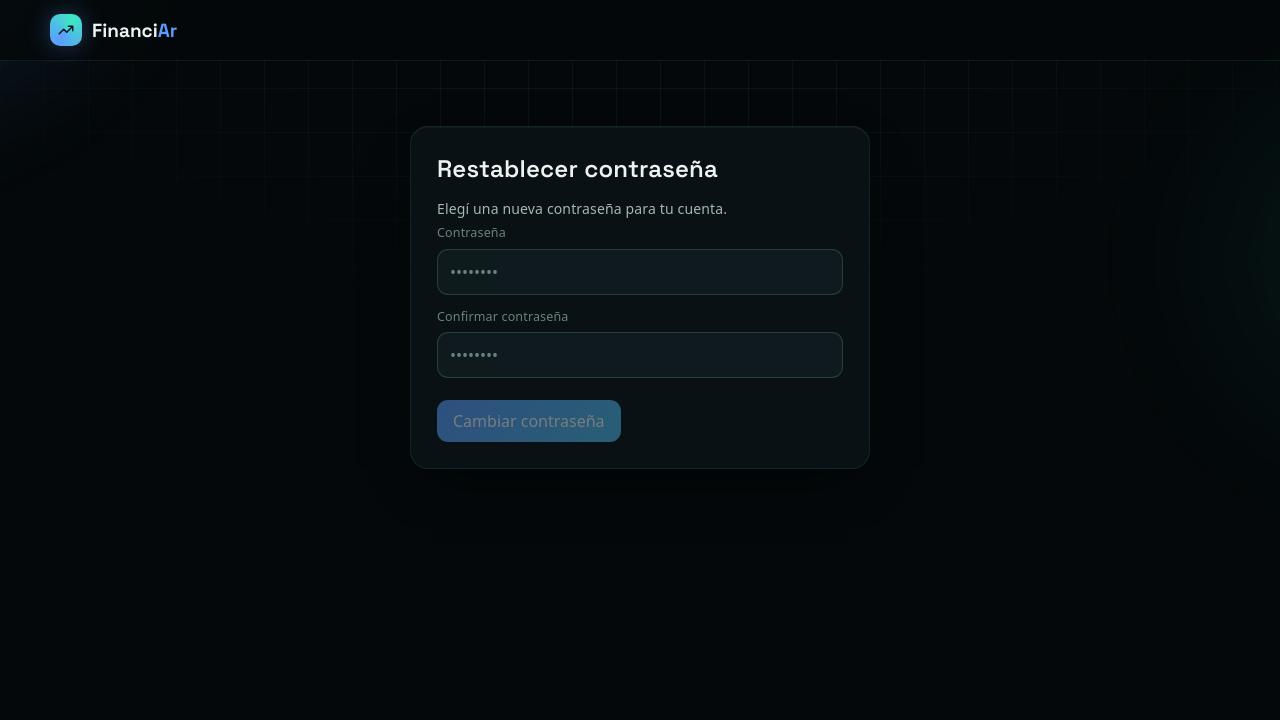
Scenario: restore page translates weak password errors
The width and height of the screenshot is (1280, 720).
In the 1st password field with placeholder "••••••••": (640, 272) 437,248 -> 843,294, type "NoDigits!!"
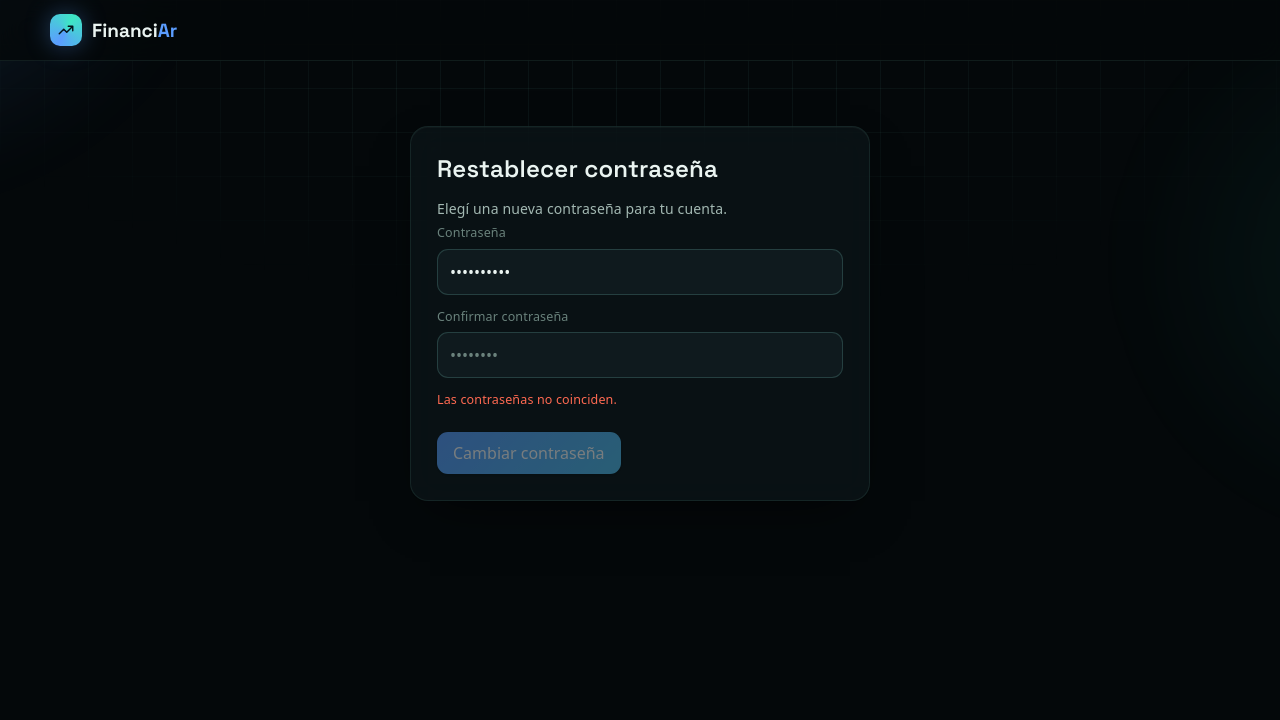
In the password field with placeholder "••••••••": (640, 355) 437,332 -> 843,378, type "NoDigits!!"
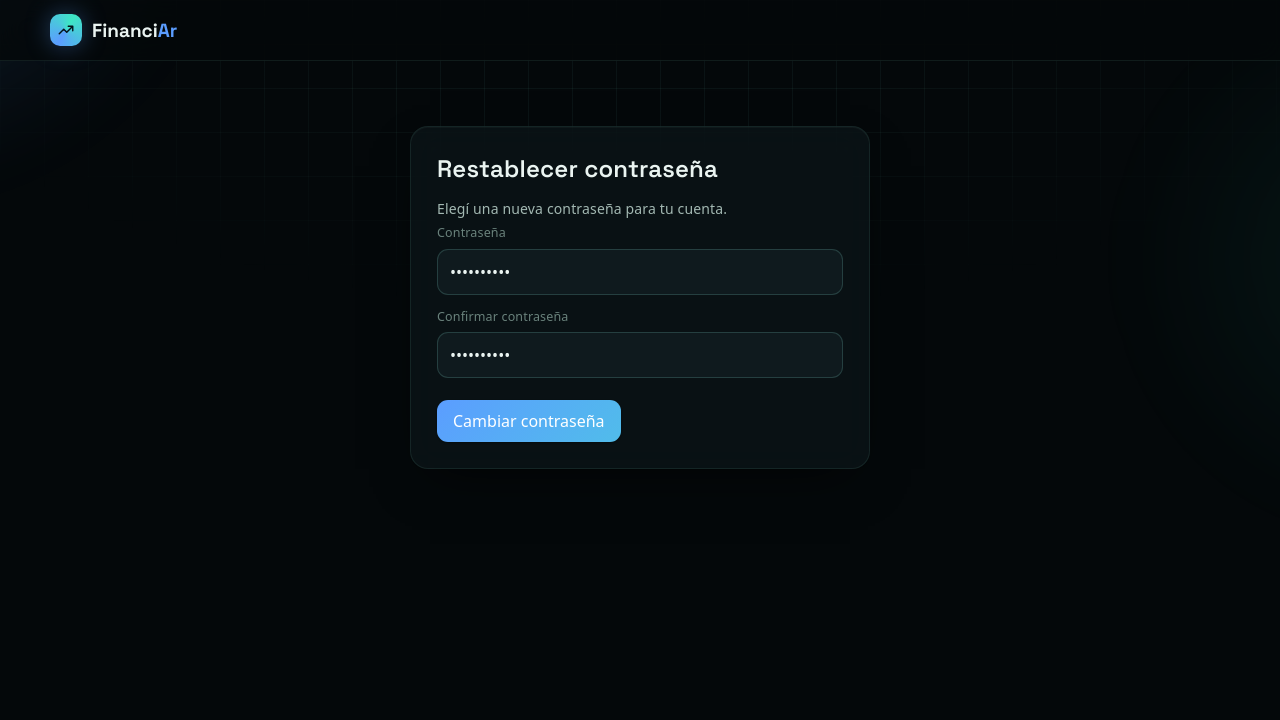
Click the button "Cambiar contraseña": (529, 421) 437,400 -> 621,442
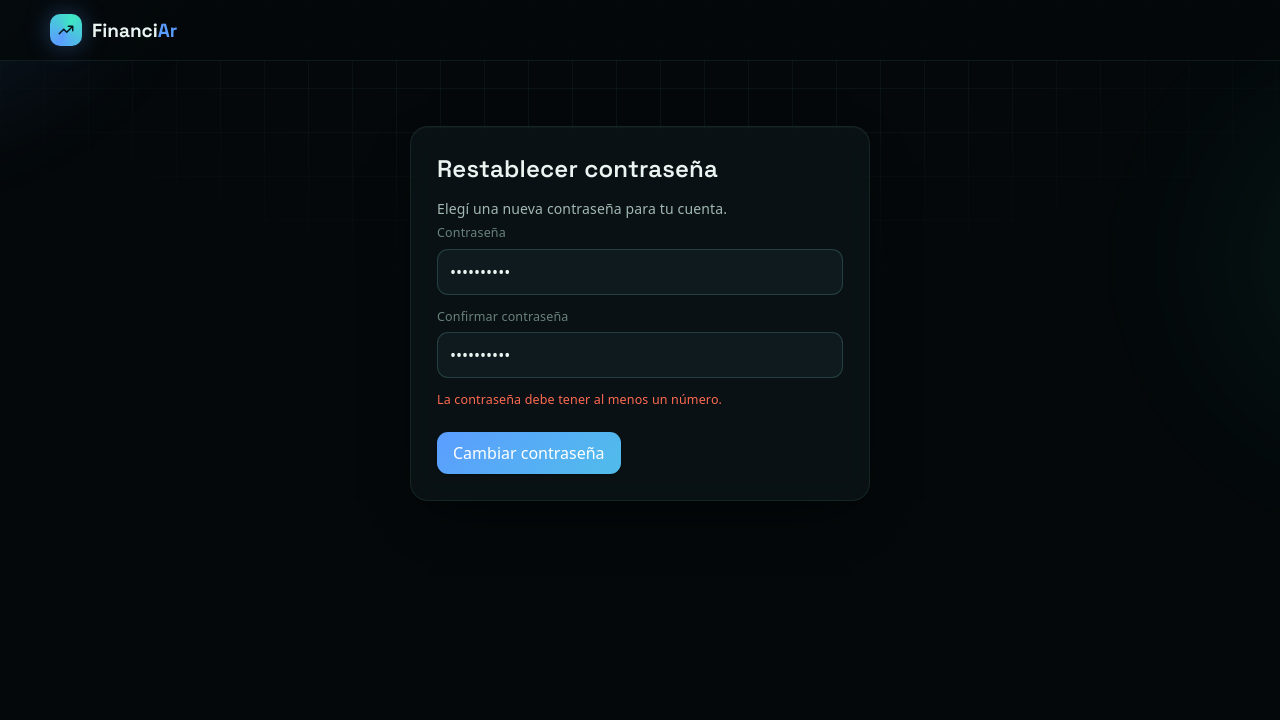
Check: the button "Cambiar contraseña" is enabled, box 437,432 -> 621,474
Check: the text "La contraseña debe tener al menos un número." is shown, box 437,391 -> 722,408
